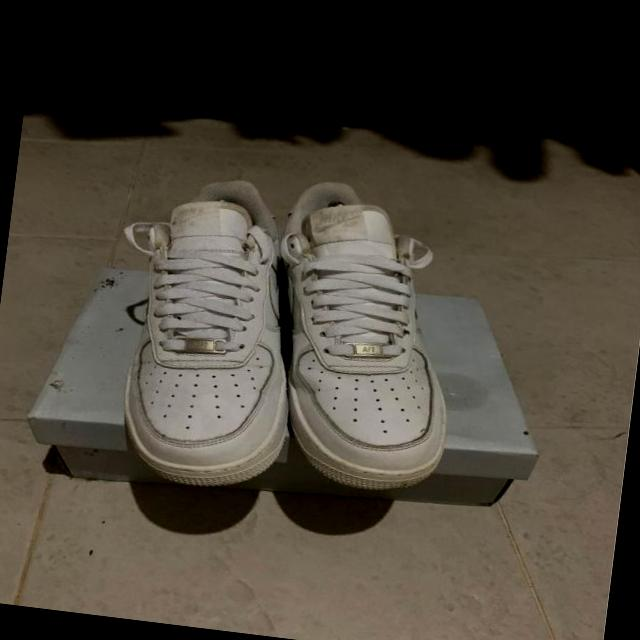nike_original_airforce: (254, 172, 484, 494), (105, 169, 314, 498)
